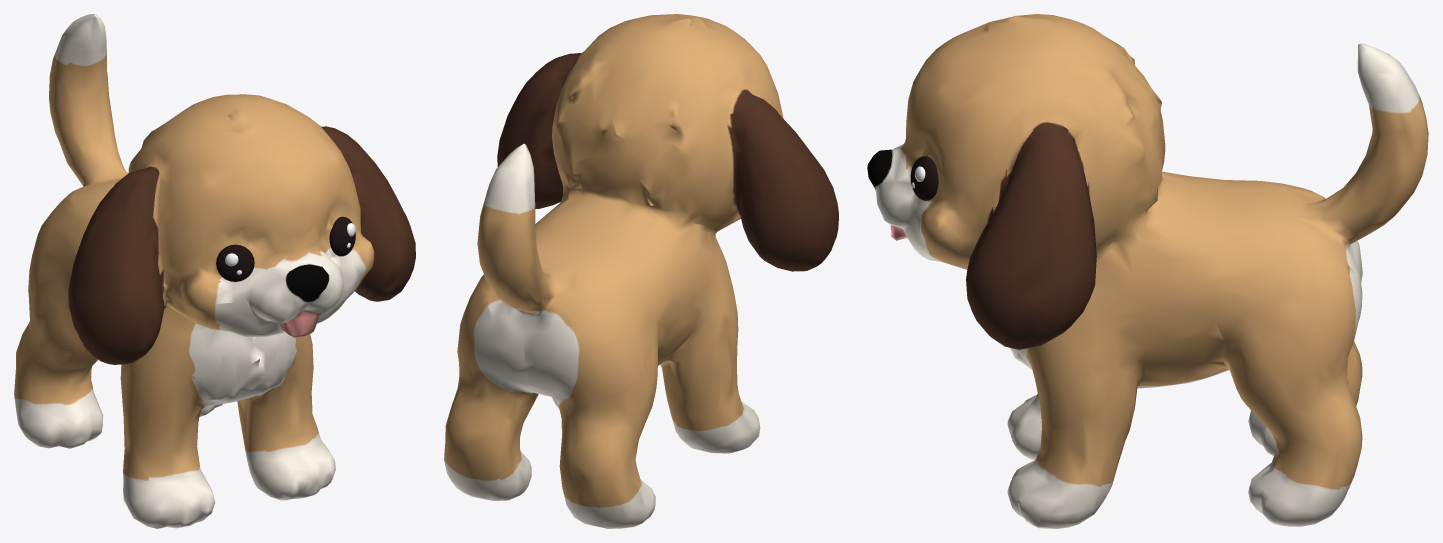
Rendered from dog.glb.
The picture shows the model from 3 angles, left to right: view 1: azimuth 30°, elevation 25°; view 2: azimuth 150°, elevation 25°; view 3: azimuth 270°, elevation 25°; orthographic projection. The views are drawn at different scales.
Parts seen in each view (by area): view 1: Mesh_0.001; view 2: Mesh_0.001; view 3: Mesh_0.001.
Boxes of the visible parts, <box> form: Mesh_0.001: <box>14,14,415,528</box>; Mesh_0.001: <box>444,14,838,528</box>; Mesh_0.001: <box>867,14,1428,528</box>.
Size of the model in its own units: 1.44 by 1.71 by 1.89.
Materials: 1 (1 with a texture image).
